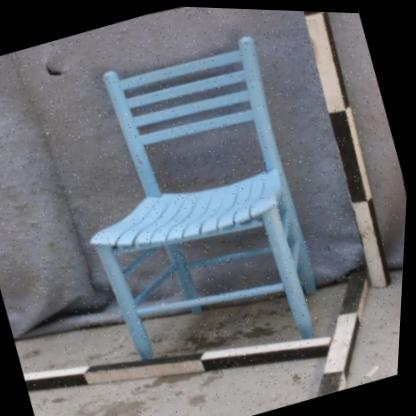Chair: (7, 1, 389, 415)
